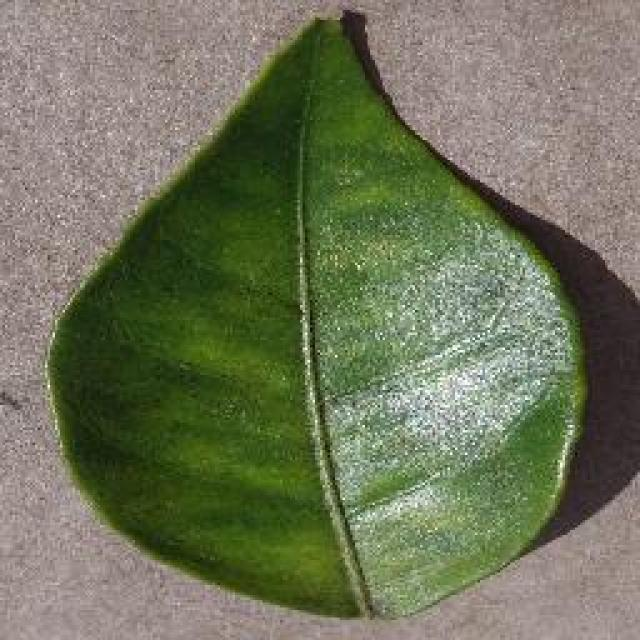Orange_Haunglongbing_Citrus_greening: (124, 166, 525, 556)
